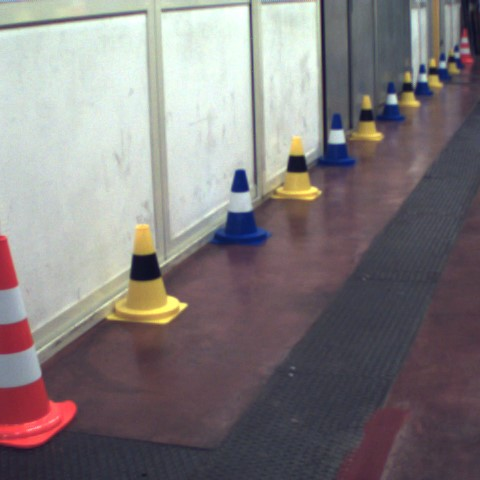cone: (214, 168, 267, 247), (317, 113, 352, 167), (379, 81, 403, 123), (416, 61, 430, 95)
